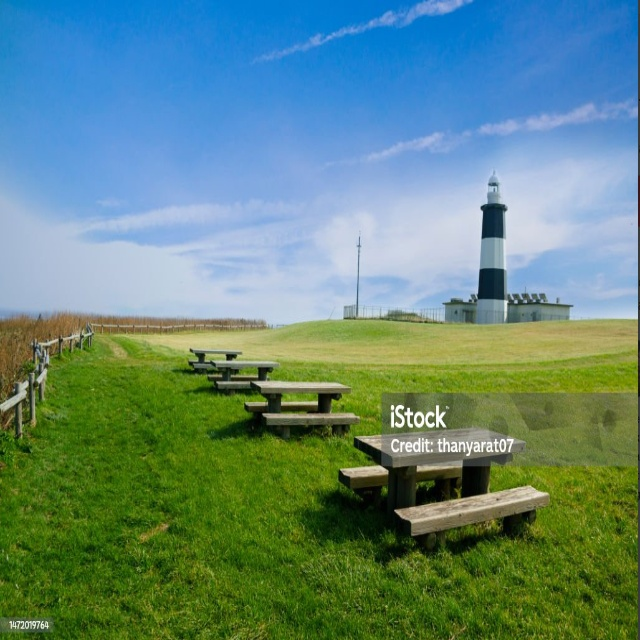obstacle: (333, 429, 550, 555), (239, 375, 350, 442), (184, 344, 243, 376)
